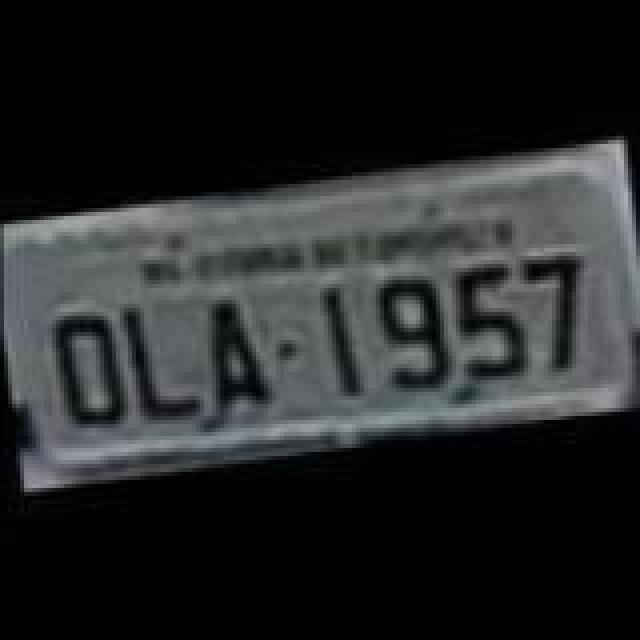1: (308, 280, 368, 400)
5: (446, 262, 534, 386)
7: (510, 254, 598, 382)
9: (368, 266, 452, 394)
A: (194, 296, 274, 424)
L: (114, 296, 210, 424)
O: (48, 306, 132, 434)
